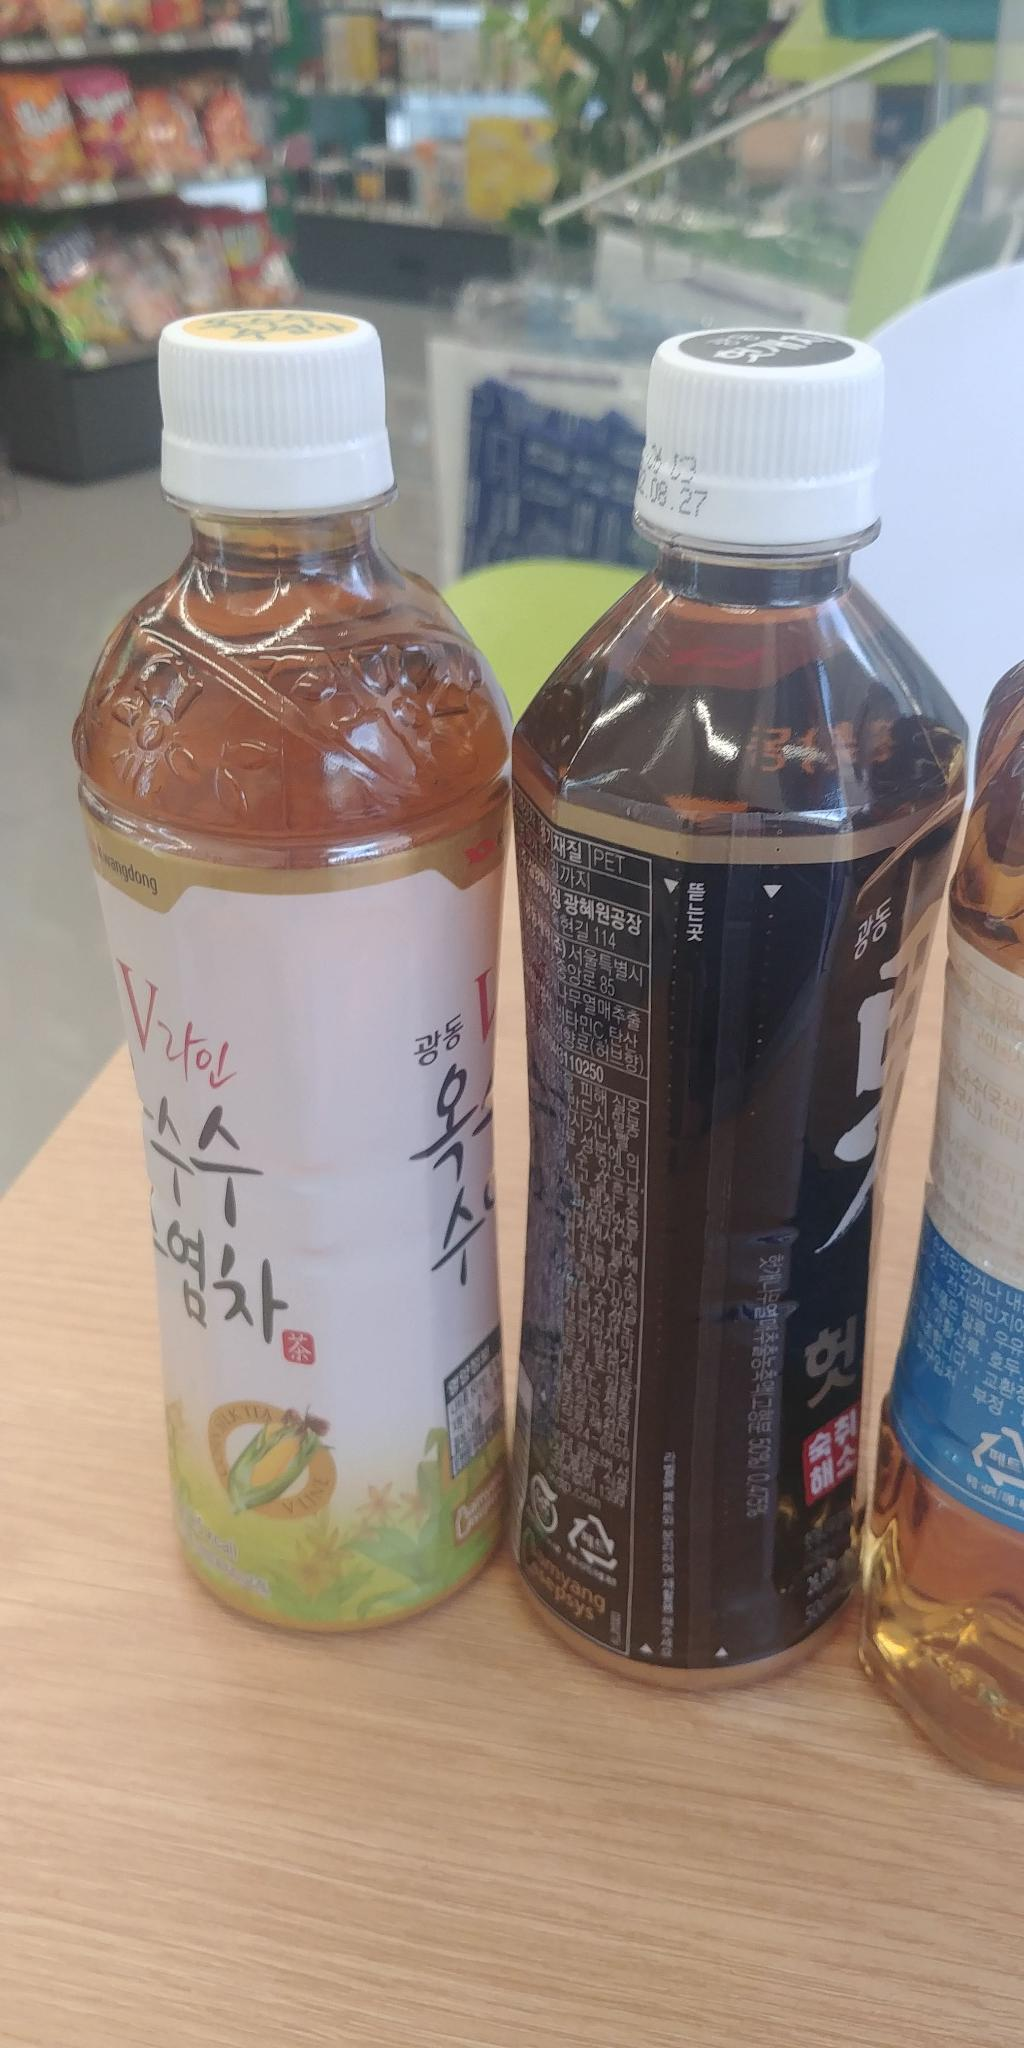heotgaecha: (458, 302, 972, 1668)
oksususuyeomcha: (52, 295, 546, 1639)
